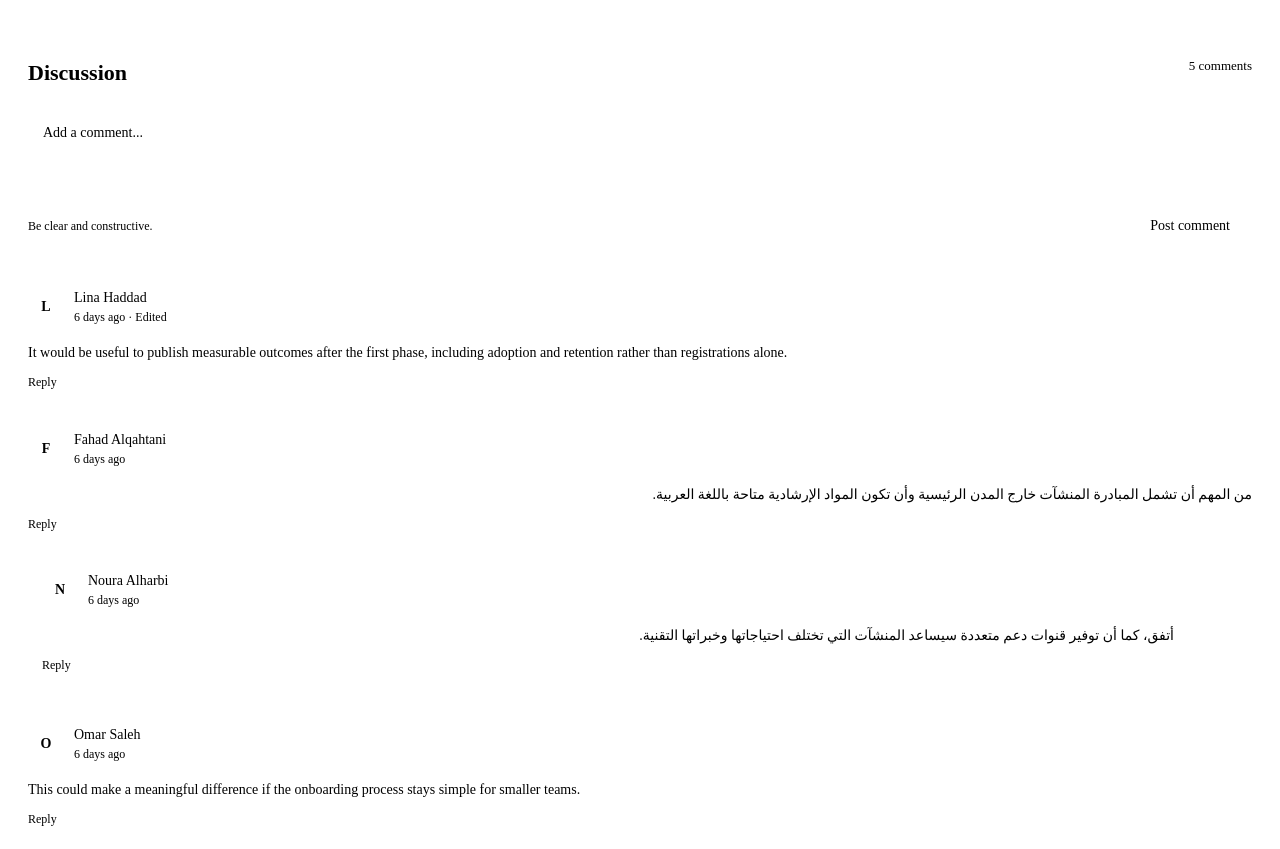
Test case: <Discussion> (web) › keeps the text when posting fails, explains it, and recovers on Retry without duplicates (S-5)
Type "Please publish the timeline." into the text box labelled "Add a comment". click: (640, 151)
box: [28,109,1252,193]
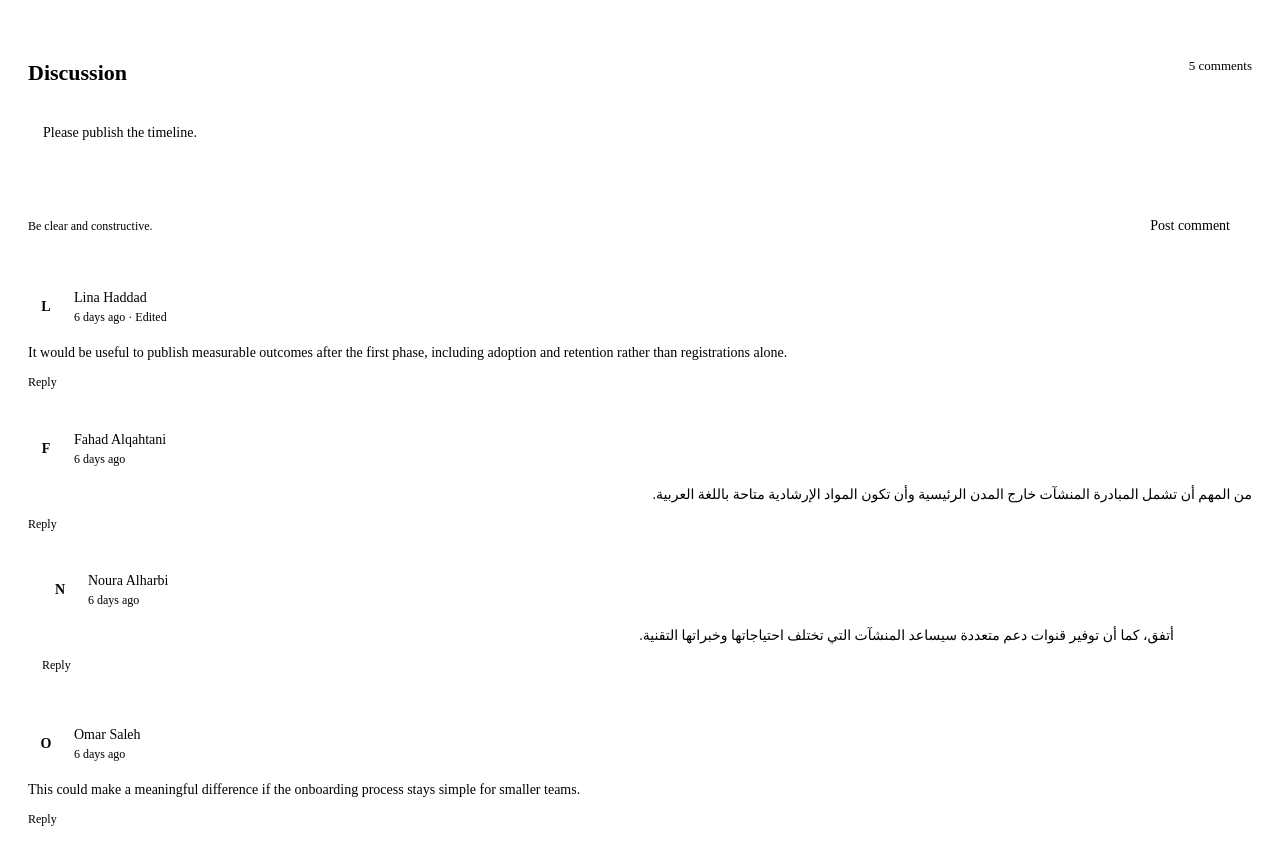
Click the button "Post comment". click: (1190, 226)
box: [1128,204,1252,248]
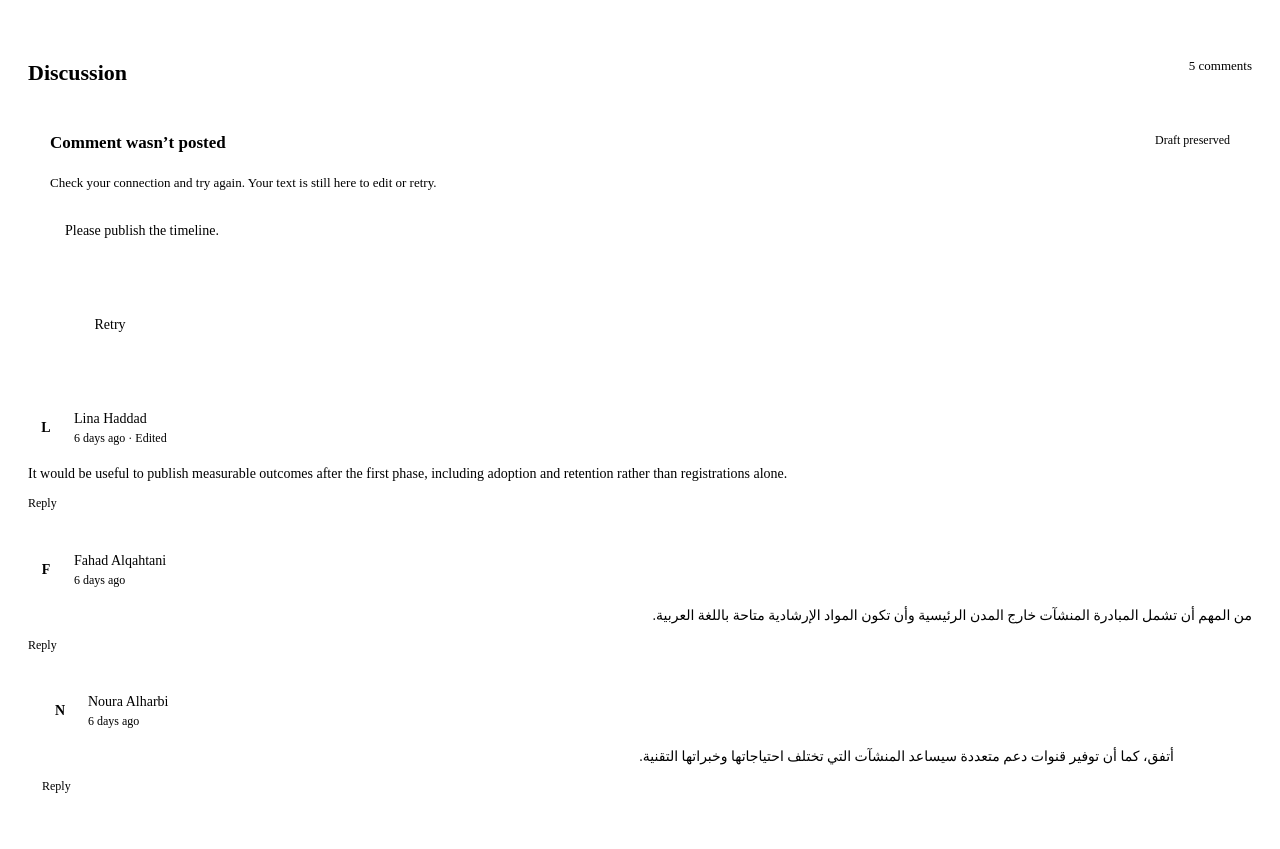
Expected: the message shows "Comment wasn’t posted", [50,133,226,152]
Expected: the message shows "Draft preserved", [1155,133,1230,147]
Click the button "Retry". click: (110, 325)
box: [50,303,170,347]
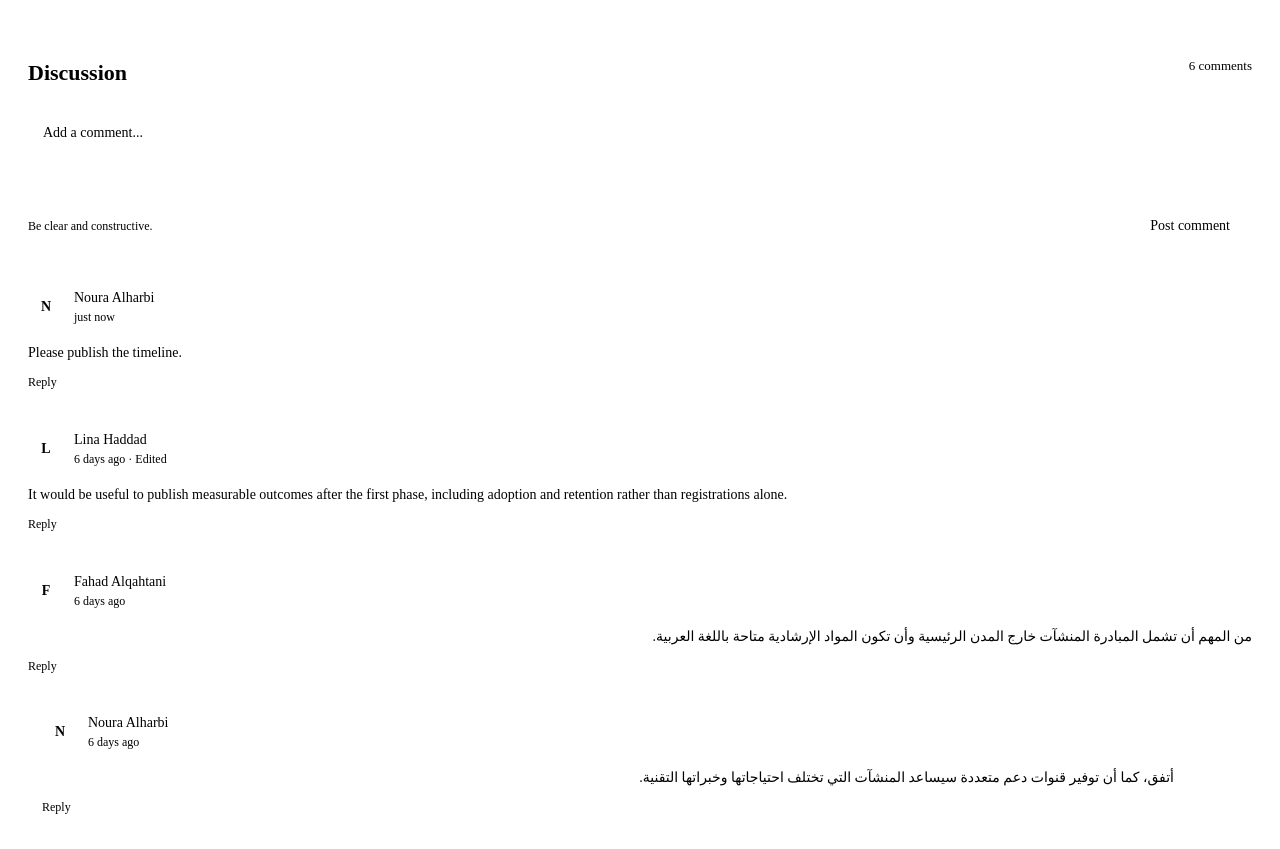
Expected: the message "Comment wasn’t posted Draft preserved Check your connection and try again. Your" is gone
Expected: the text box labelled "Add a comment" is empty, [28,109,1252,193]
Expected: the text "Please publish the timeline." is shown once, [28,345,182,360]
